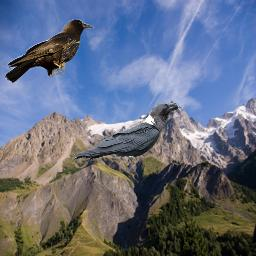Crow: (5, 17, 95, 86), (72, 103, 179, 161)
